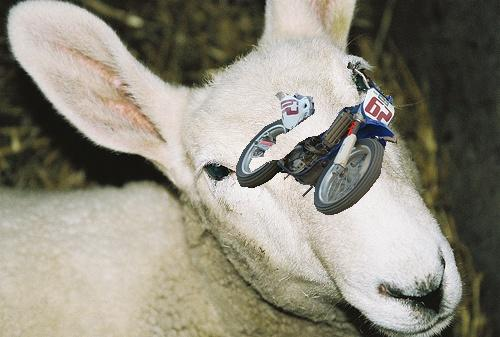tampered: (237, 63, 397, 215)
